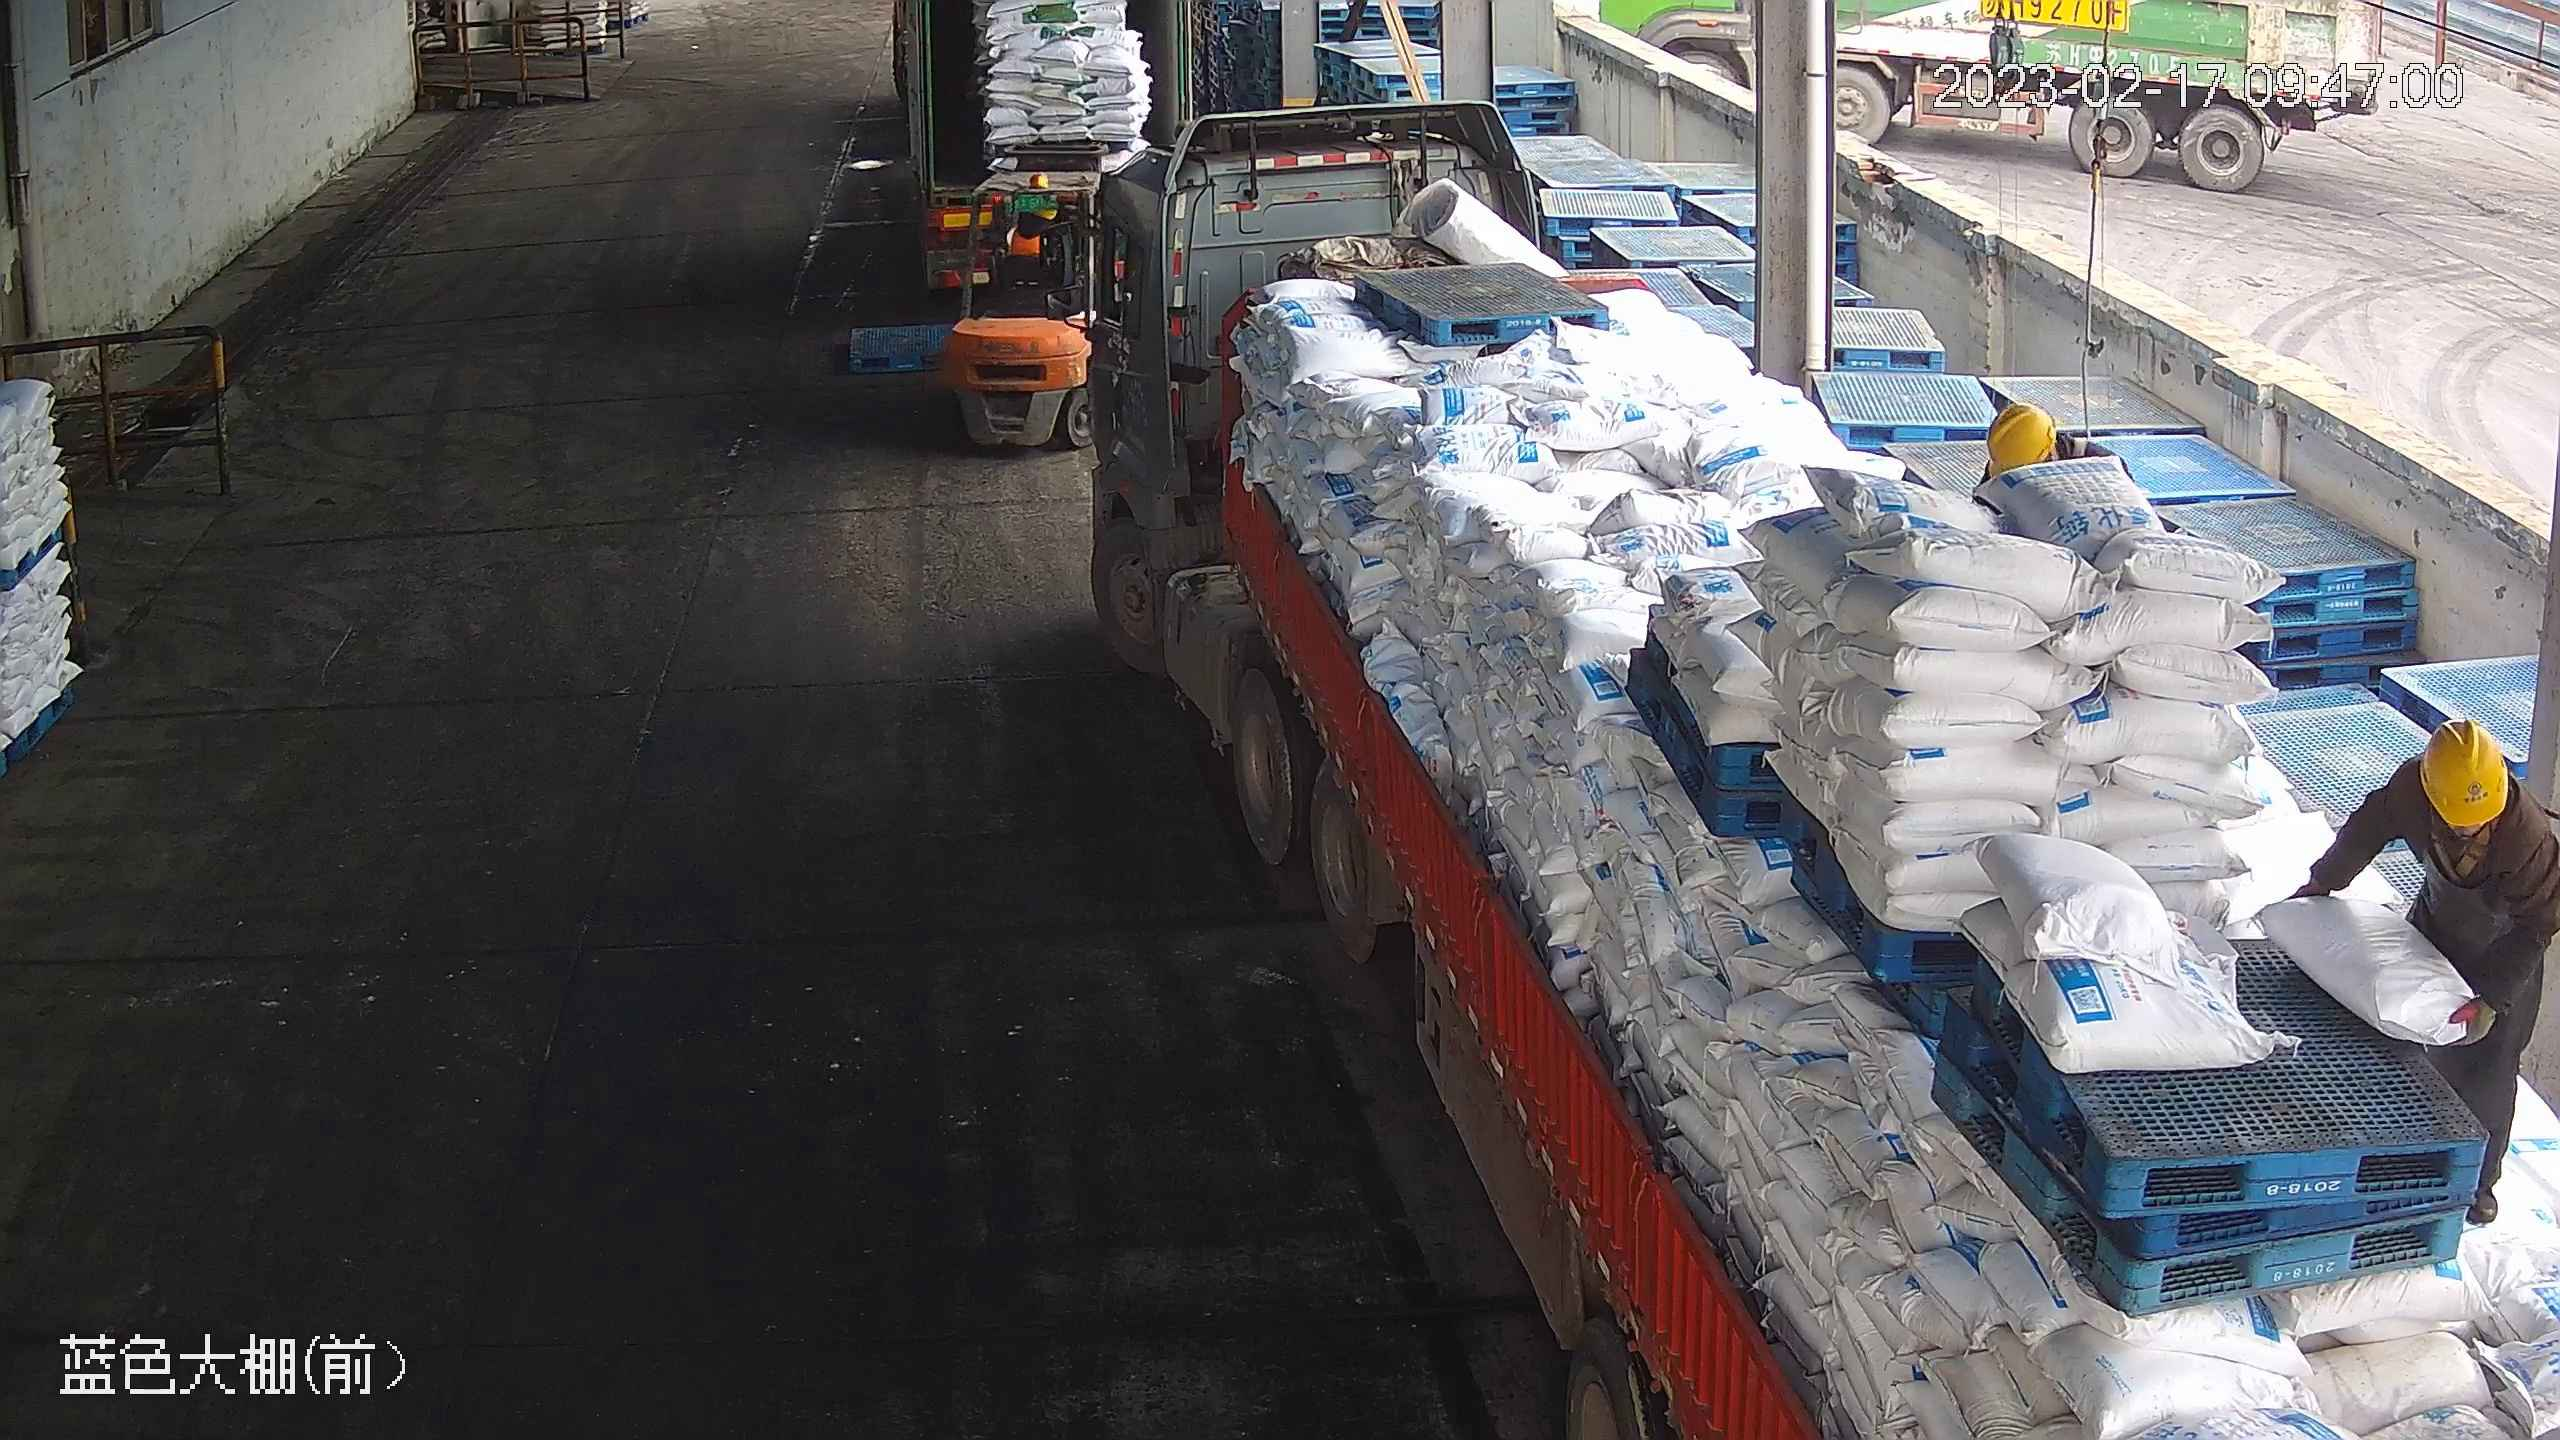belt: (2423, 787, 2515, 872)
head: (2373, 719, 2553, 894)
helmet: (2416, 717, 2511, 830), (1984, 399, 2059, 472)
people: (2296, 711, 2559, 1232)
truck: (1094, 136, 2549, 1439), (896, 3, 1196, 273)
